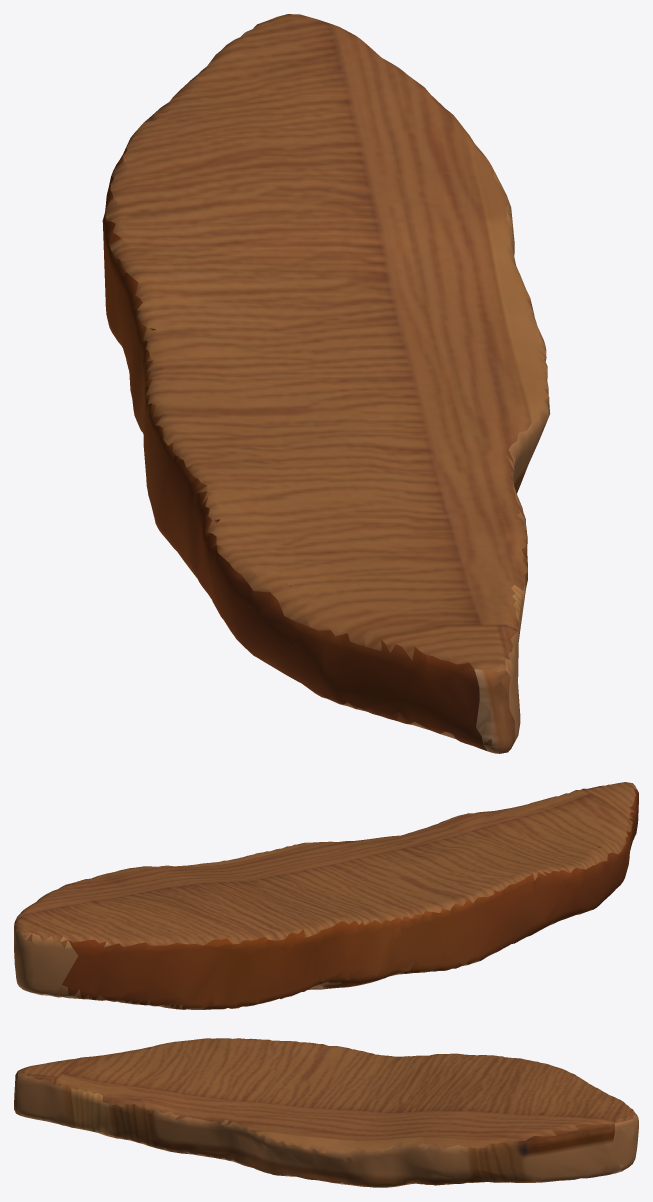
The model's file is Glacier_board04.fbx.
3 views of the same model, one above another, from view 1: azimuth 30°, elevation 25°; view 2: azimuth 150°, elevation 25°; view 3: azimuth 270°, elevation 25° (orthographic). The views are drawn at different scales.
Parts seen in each view (by area): view 1: material_0; view 2: material_0; view 3: material_0.
Part boxes in pixels (bbox=[...]): material_0: bbox=[102, 14, 550, 753]; material_0: bbox=[14, 782, 638, 1009]; material_0: bbox=[14, 1038, 638, 1187].
Size of the model in its own units: 0.2492 by 0.0847 by 0.4812.
